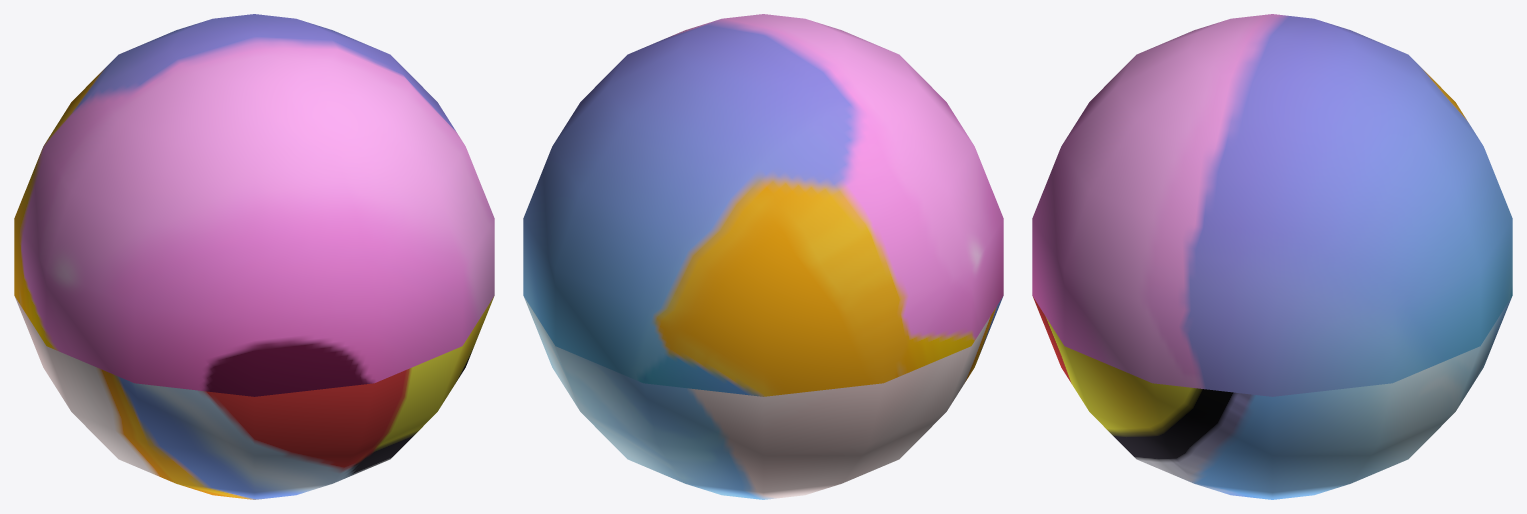
File: dif5.2(7.2).fbx
3 renders of one model, left to right at view 1: azimuth 30°, elevation 25°; view 2: azimuth 150°, elevation 25°; view 3: azimuth 270°, elevation 25°, orthographic.
Parts seen in each view (by area): view 1: Sphere; view 2: Sphere; view 3: Sphere.
Part boxes in pixels (<box>): Sphere: <box>14,14,494,499</box>; Sphere: <box>523,14,1003,499</box>; Sphere: <box>1032,14,1512,499</box>.
Size of the model in its own units: 280 by 276 by 280.
